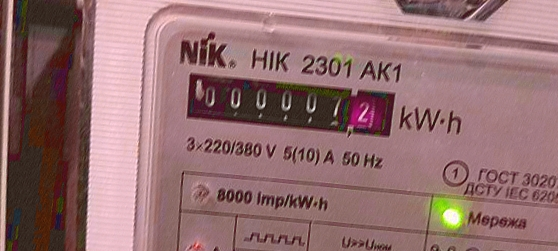0: (199, 82, 215, 108), (276, 88, 292, 112), (251, 86, 266, 110), (301, 90, 316, 114), (225, 85, 240, 108)
2: (353, 99, 368, 124)
7: (326, 92, 341, 118)
screen: (171, 59, 404, 149)
